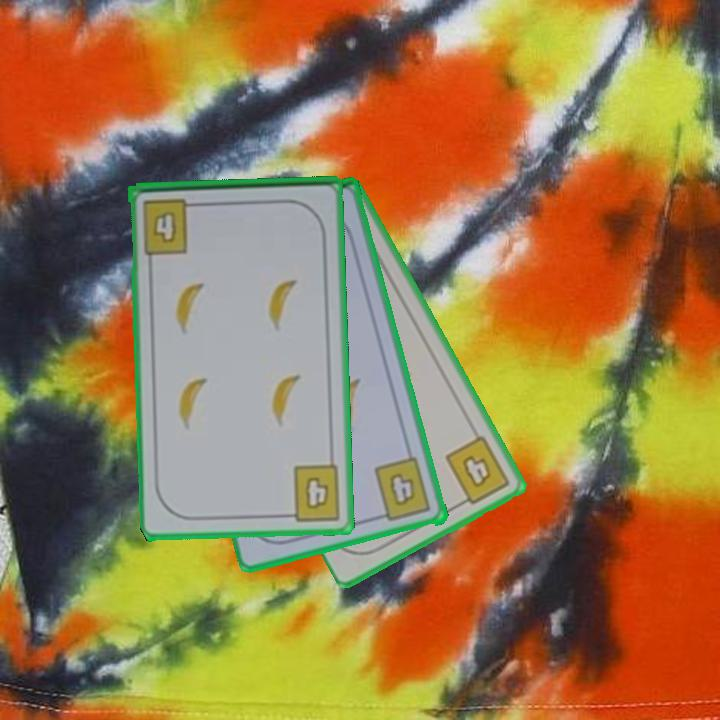4b: (441, 432, 514, 510), (371, 454, 435, 525), (280, 461, 344, 524), (139, 194, 202, 257)
